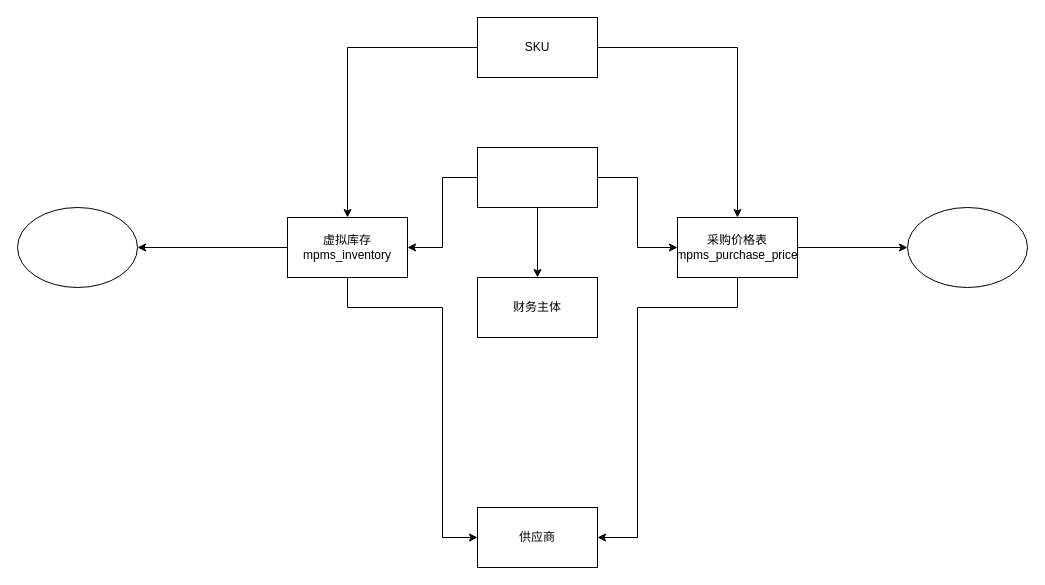
This 1045x585 diagram has some shape labels left out. The shapes that lost their labels are listed below. From the top down, each one's centre as x and y in pixels, then its label:
pixel 537 177: 库存地 mpms_store_location
pixel 77 247: 缺断货信息
pixel 967 247: 采购价 市场价 运输费
